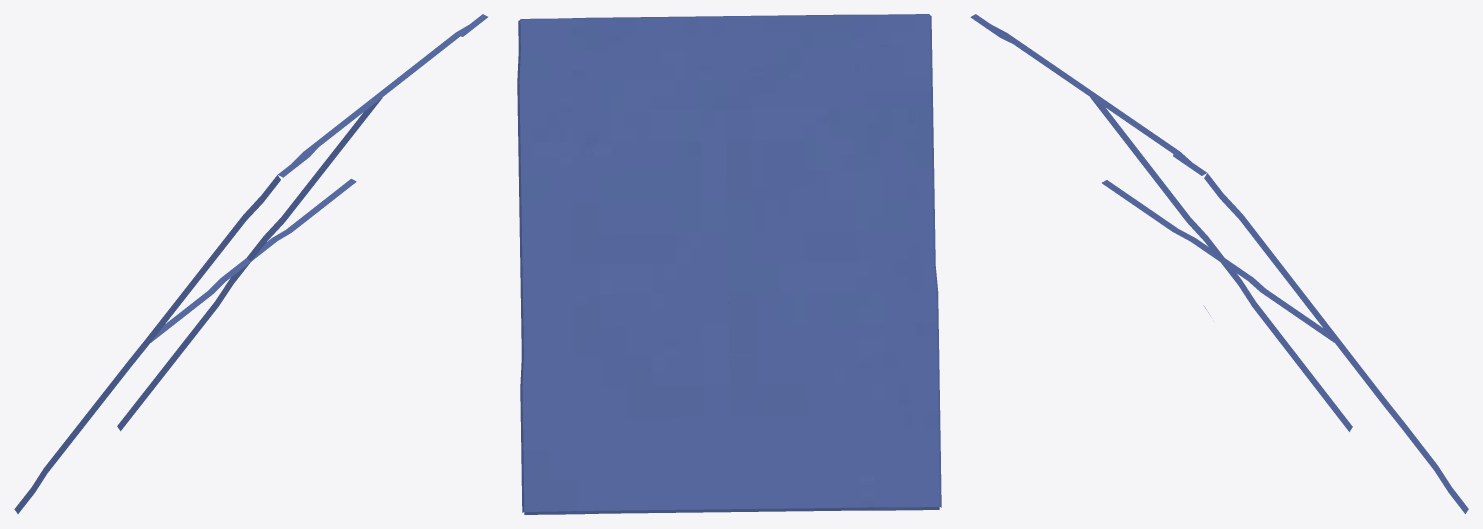
The picture shows the model from 3 angles, left to right: view 1: azimuth 30°, elevation 25°; view 2: azimuth 150°, elevation 25°; view 3: azimuth 270°, elevation 25°; orthographic projection. The views are drawn at different scales.
Size of the model in its own units: 158024 by 131264 by 145383.
1 material, 1 textured.
